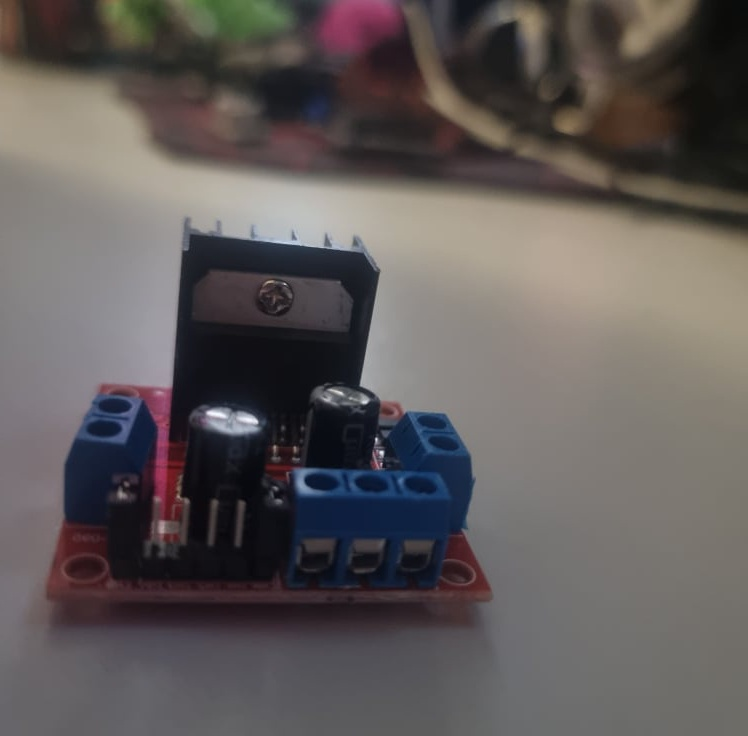MOTOR: (48, 214, 495, 606)
